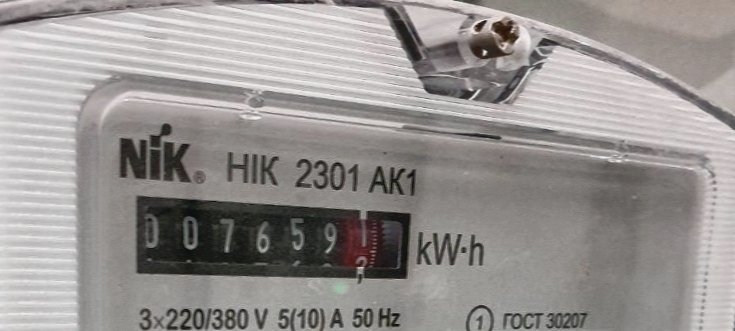0: (177, 211, 202, 253), (138, 209, 162, 251)
1: (354, 218, 372, 251)
5: (286, 215, 307, 253)
6: (251, 217, 273, 256)
7: (216, 215, 236, 256)
9: (320, 220, 338, 257)
screen: (124, 178, 421, 306)
